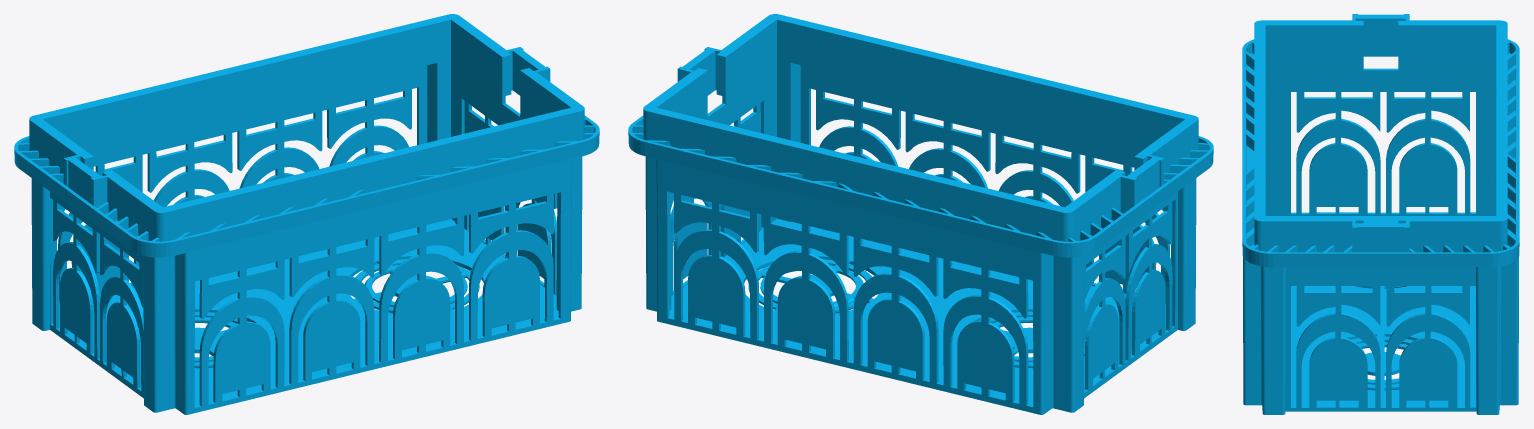
3 renders of one model, left to right at view 1: azimuth 30°, elevation 25°; view 2: azimuth 150°, elevation 25°; view 3: azimuth 270°, elevation 25°, orthographic. The views are drawn at different scales.
Parts seen in each view (by area): view 1: entity_2; view 2: entity_2; view 3: entity_2.
Part boxes in pixels (box(x1,y1,x2,y2)): entity_2: box(14, 14, 599, 414); entity_2: box(628, 14, 1213, 414); entity_2: box(1242, 14, 1519, 414).
Size of the model in its own units: 135 by 56 by 72.59.
